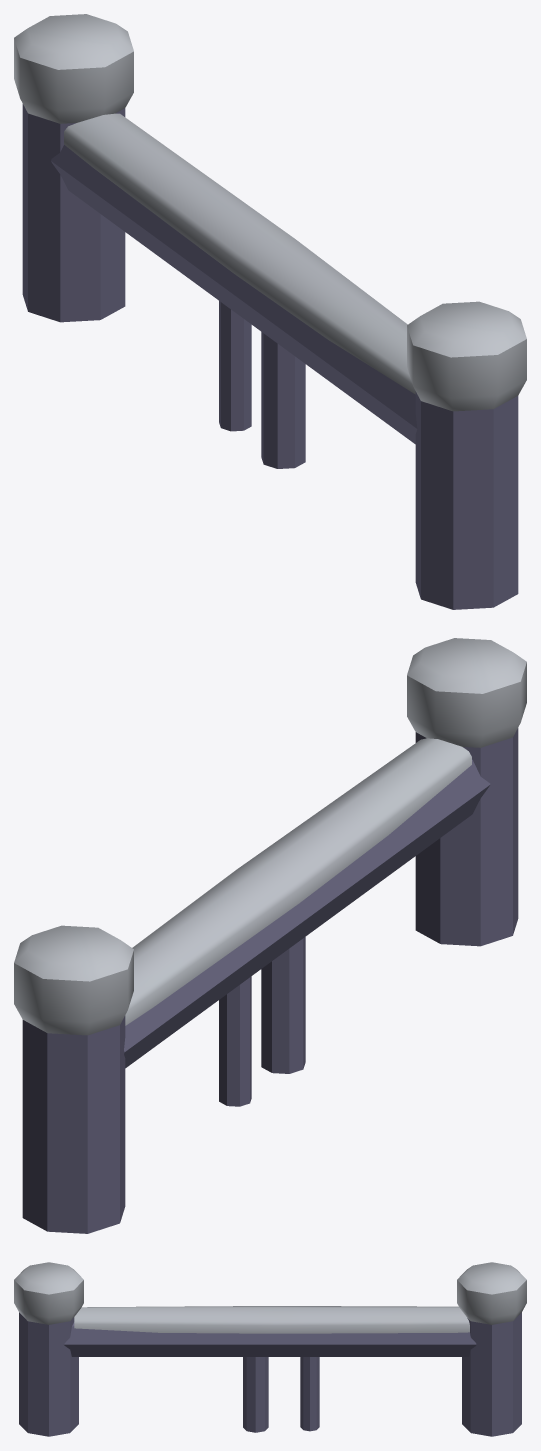
File: RPGBattle_BridgeFloor10_fence2.fbx
The picture shows the model from 3 angles, top to bottom: view 1: azimuth 30°, elevation 25°; view 2: azimuth 150°, elevation 25°; view 3: azimuth 270°, elevation 25°; orthographic projection. The views are drawn at different scales.
Visible parts, largest first — view 1: RPGBattle_BridgeFloor10_fence2; view 2: RPGBattle_BridgeFloor10_fence2; view 3: RPGBattle_BridgeFloor10_fence2.
Part boxes in pixels (box(x1,y1,x2,y2)): RPGBattle_BridgeFloor10_fence2: box(14, 14, 526, 609); RPGBattle_BridgeFloor10_fence2: box(14, 638, 526, 1233); RPGBattle_BridgeFloor10_fence2: box(14, 1262, 526, 1436).
Bounding box in the file's own units: 75.13 × 182 × 550.
